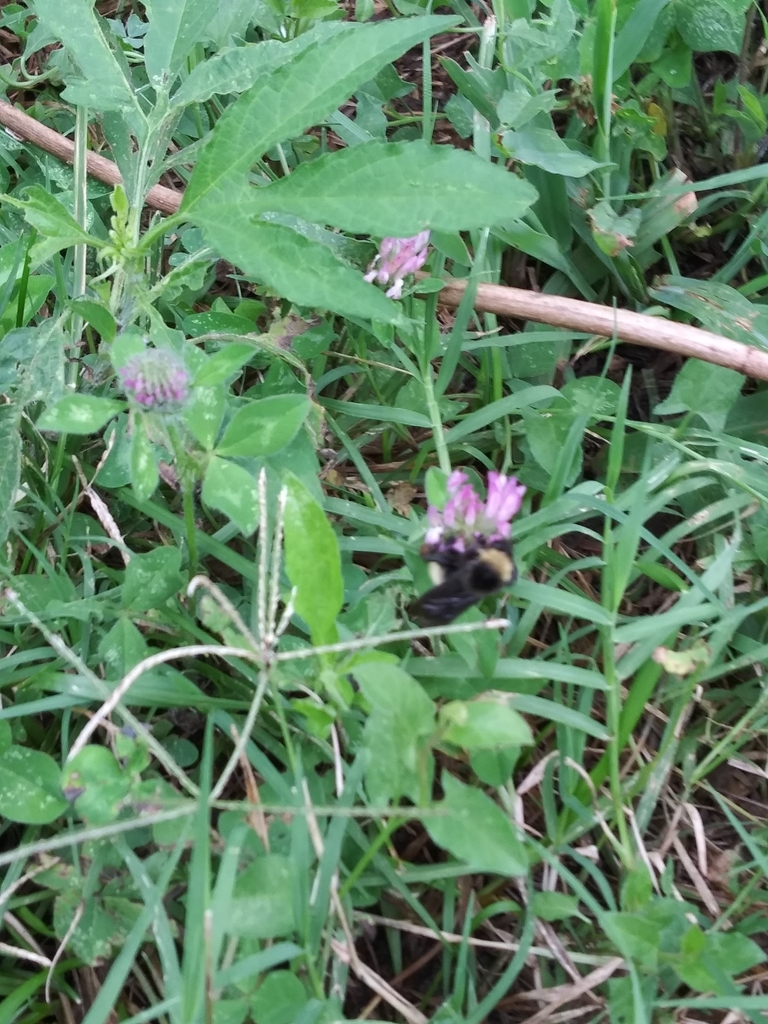bumblebee: (394, 541, 517, 633)
